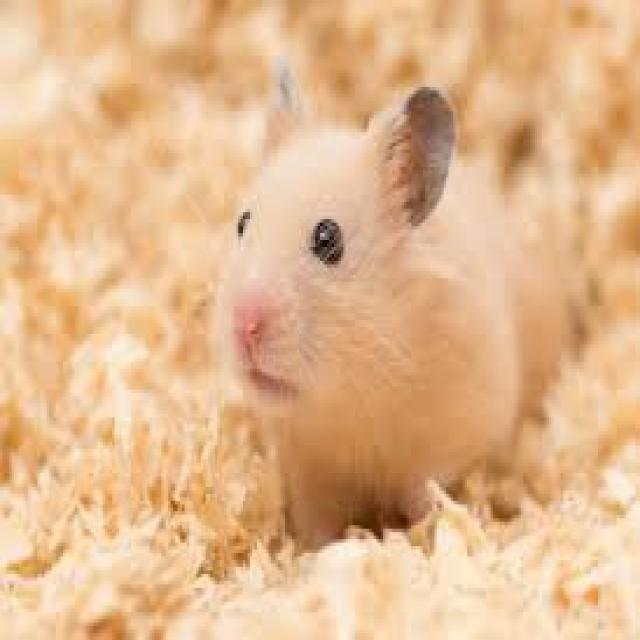hamster: (236, 121, 510, 526)
